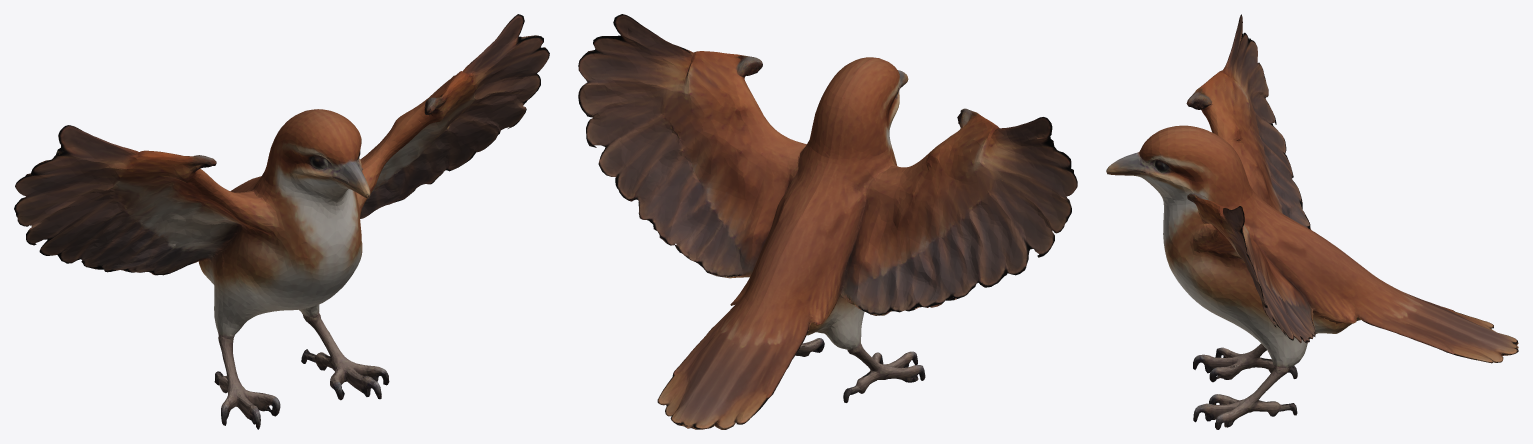
3 renders of one model, left to right at view 1: azimuth 30°, elevation 25°; view 2: azimuth 150°, elevation 25°; view 3: azimuth 270°, elevation 25°, orthographic. The views are drawn at different scales.
Parts seen in each view (by area): view 1: world; view 2: world; view 3: world.
Part boxes in pixels (x1=…): world: x1=14, y1=14, x2=549, y2=429; world: x1=578, y1=14, x2=1077, y2=429; world: x1=1106, y1=14, x2=1518, y2=429.
Size of the model in its own units: 0.9872 by 0.579 by 0.7543.
1 material, 1 textured.
